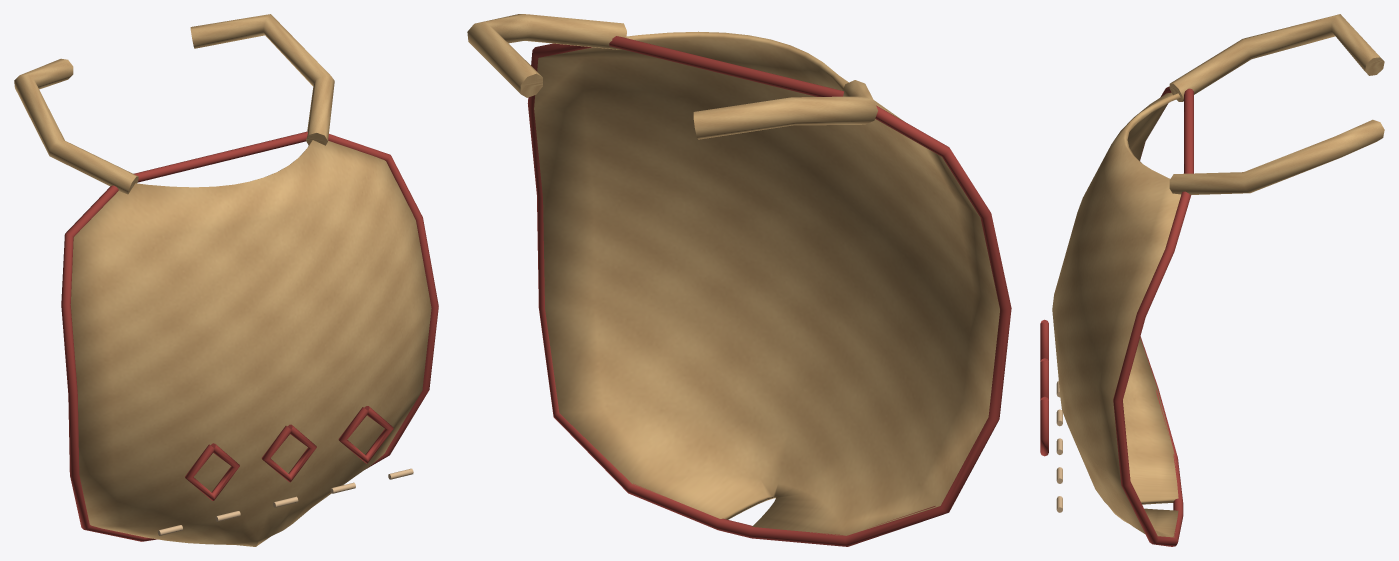
File: bib.glb
The picture shows the model from 3 angles, left to right: view 1: azimuth 30°, elevation 25°; view 2: azimuth 150°, elevation 25°; view 3: azimuth 270°, elevation 25°; orthographic projection. The views are drawn at different scales.
Parts seen in each view (by area): view 1: Нагрудник, Обтачка, Льняная завязка.001, Льняная завязка, Вышитый ромб.001, Вышитый ромб.002, Вышитый ромб; view 2: Нагрудник, Обтачка, Льняная завязка.001, Льняная завязка; view 3: Нагрудник, Обтачка, Льняная завязка, Льняная завязка.001, Вышитый ромб.002.
Boxes of the visible parts, <box> form: Нагрудник: <box>70,140,431,546</box>; Обтачка: <box>61,131,438,541</box>; Льняная завязка.001: <box>190,14,334,145</box>; Льняная завязка: <box>14,58,138,194</box>; Вышитый ромб.001: <box>261,424,316,482</box>; Вышитый ромб.002: <box>338,406,393,463</box>; Вышитый ромб: <box>185,443,239,500</box>; Нагрудник: <box>534,31,999,535</box>; Обтачка: <box>527,36,1011,546</box>; Льняная завязка.001: <box>467,14,626,97</box>; Льняная завязка: <box>693,80,877,139</box>; Нагрудник: <box>1052,92,1180,537</box>; Обтачка: <box>1113,86,1193,546</box>; Льняная завязка: <box>1169,14,1384,101</box>; Льняная завязка.001: <box>1169,119,1384,194</box>; Вышитый ромб.002: <box>1040,396,1048,456</box>.
Bounding box in the file's own units: 0.3455 × 0.3815 × 0.2723.
Materials: 3 (1 with a texture image).
